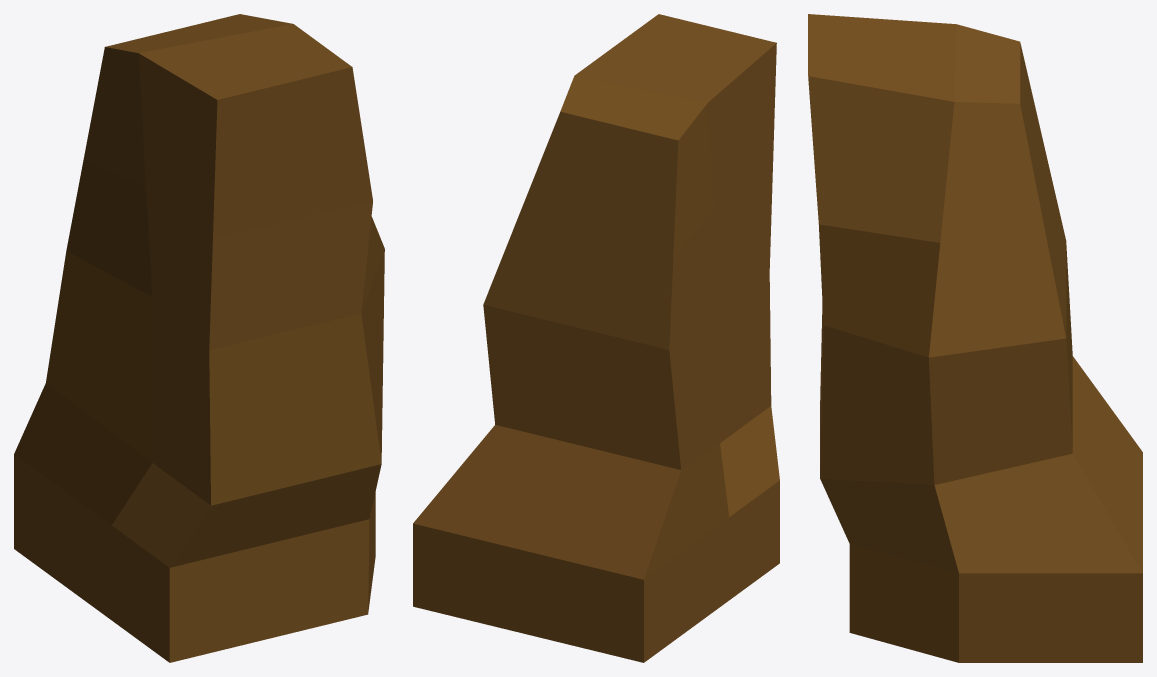
File: Rock02.fbx
3 views of the same model, side by side, from view 1: azimuth 30°, elevation 25°; view 2: azimuth 150°, elevation 25°; view 3: azimuth 270°, elevation 25° (orthographic). The views are drawn at different scales.
Visible parts, largest first — view 1: rock02; view 2: rock02; view 3: rock02.
Part boxes in pixels (bbox=[...]): rock02: bbox=[14, 14, 384, 662]; rock02: bbox=[413, 14, 779, 662]; rock02: bbox=[808, 14, 1142, 662].
Bounding box in the file's own units: 1694 × 3440 × 1934.
